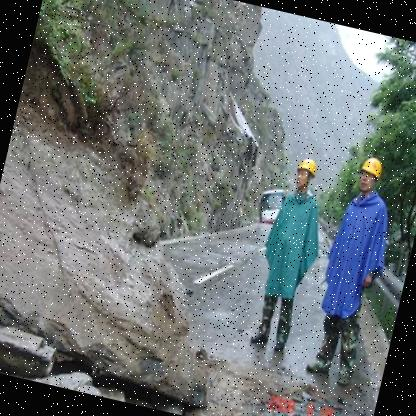capacete: (354, 154, 387, 198), (290, 153, 322, 195)
sem_colete_refletivo: (315, 186, 401, 323), (253, 186, 333, 310)
